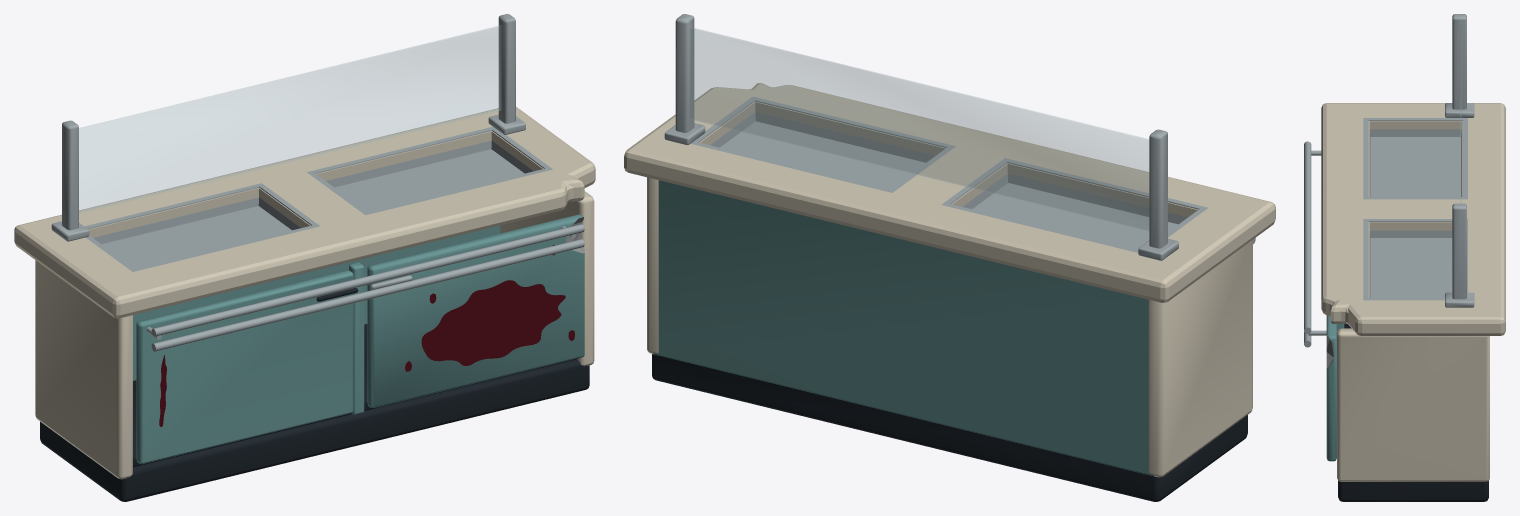
Rendered from cafeteria_serving_counter.glb.
3 renders of one model, left to right at view 1: azimuth 30°, elevation 25°; view 2: azimuth 150°, elevation 25°; view 3: azimuth 270°, elevation 25°, orthographic. The views are drawn at different scales.
Visible parts, largest first — view 1: Static_Shell_Mesh, Left_Cabinet_Door_Mesh, Right_Cabinet_Door_Mesh; view 2: Static_Shell_Mesh; view 3: Static_Shell_Mesh, Right_Cabinet_Door_Mesh.
Part boxes in pixels (left/top/right/bottom): Static_Shell_Mesh: left=14, top=14, right=595, bottom=501; Left_Cabinet_Door_Mesh: left=136, top=270, right=358, bottom=464; Right_Cabinet_Door_Mesh: left=367, top=214, right=584, bottom=407; Static_Shell_Mesh: left=624, top=14, right=1275, bottom=501; Static_Shell_Mesh: left=1304, top=14, right=1505, bottom=501; Right_Cabinet_Door_Mesh: left=1326, top=315, right=1336, bottom=461.
Size of the model in its own units: 2.46 by 1.53 by 0.9621.
